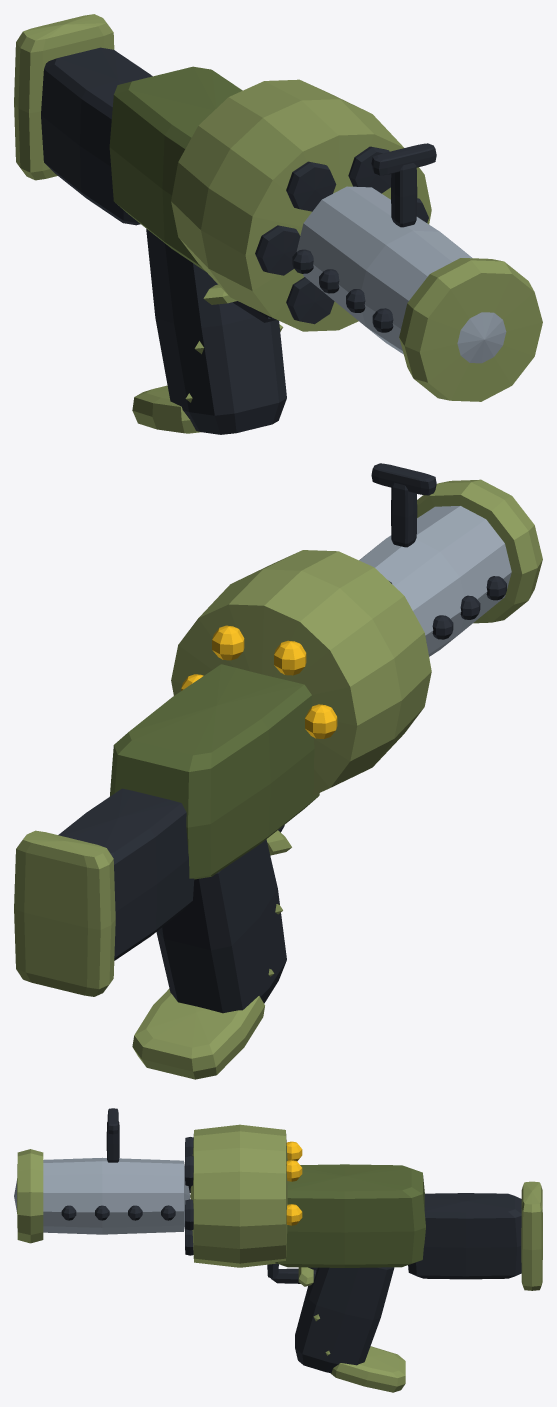
The model's file is g-x-grenade.glb.
3 renders of one model, top to bottom at view 1: azimuth 30°, elevation 25°; view 2: azimuth 150°, elevation 25°; view 3: azimuth 270°, elevation 25°, orthographic. The views are drawn at different scales.
Parts seen in each view (by area): view 1: gun; view 2: gun; view 3: gun.
Part boxes in pixels (bbox=[...]): gun: bbox=[14, 14, 542, 434]; gun: bbox=[14, 463, 542, 1079]; gun: bbox=[14, 1108, 542, 1392].
Size of the model in its own units: 0.26 by 0.5336 by 0.9597.
